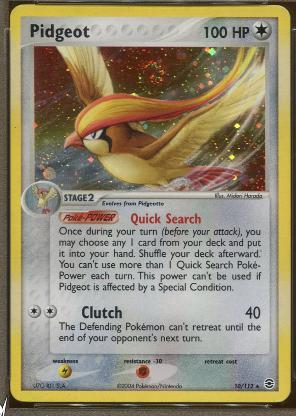Card: (8, 0, 294, 408)
